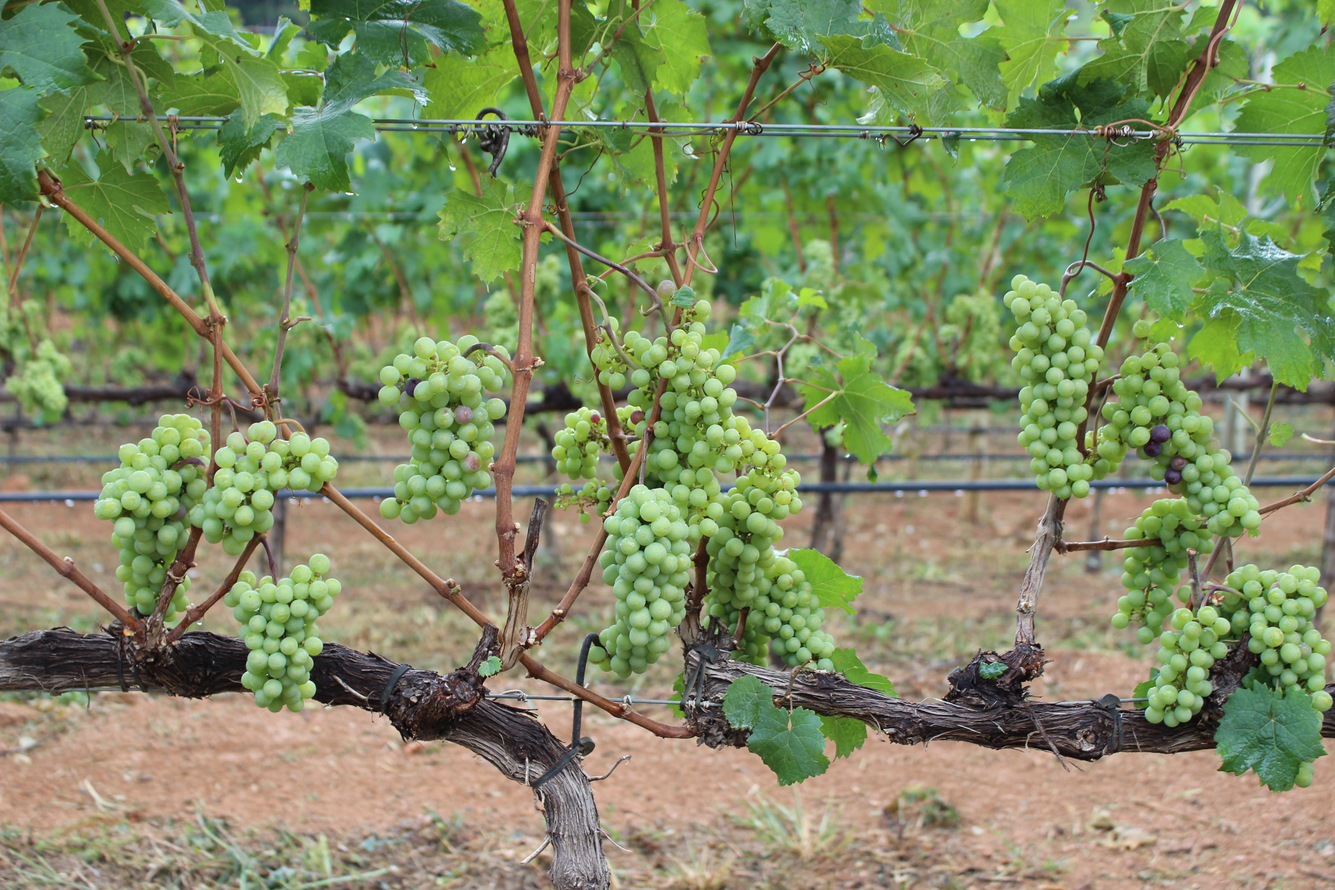leaf: (1191, 230, 1335, 390), (1003, 134, 1156, 219), (802, 354, 915, 466), (895, 0, 1007, 109), (1214, 683, 1325, 792), (58, 152, 169, 251), (821, 35, 948, 114), (311, 0, 484, 54), (1235, 45, 1335, 133), (438, 179, 522, 283), (0, 3, 96, 92), (275, 109, 375, 192), (1007, 74, 1148, 129), (993, 0, 1066, 105), (638, 0, 711, 94), (747, 703, 830, 785), (1123, 239, 1205, 322), (424, 47, 518, 119), (1235, 145, 1326, 204), (0, 88, 43, 203), (788, 549, 863, 614), (218, 115, 285, 178), (831, 648, 896, 695), (722, 674, 774, 729), (820, 716, 867, 758), (66, 216, 92, 244), (1268, 422, 1294, 447), (241, 118, 245, 125), (257, 122, 258, 123), (1077, 72, 1078, 73), (67, 152, 67, 153)
